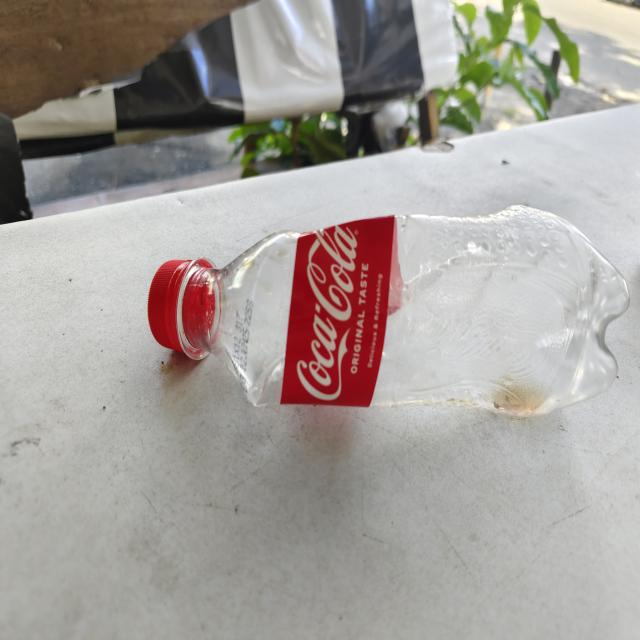Bottle: (148, 205, 630, 417)
